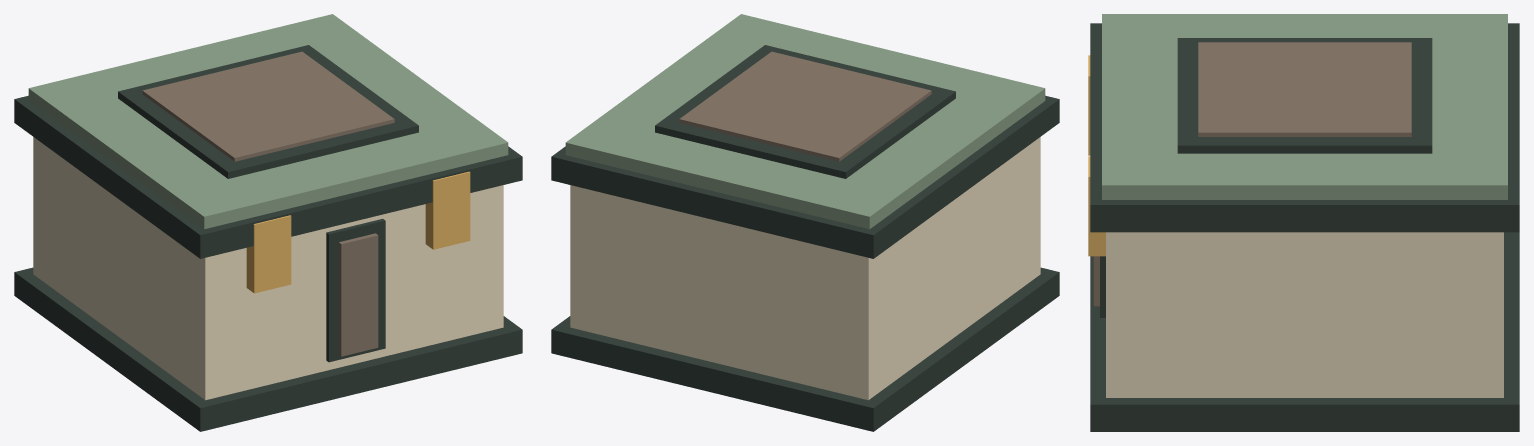
File: quality-cold.glb
3 views of the same model, side by side, from view 1: azimuth 30°, elevation 25°; view 2: azimuth 150°, elevation 25°; view 3: azimuth 270°, elevation 25° (orthographic). The views are drawn at different scales.
Parts seen in each view (by area): view 1: Insulated case, Mesh_CargoContainer_ink, Sealed case lid, ThermalSurface, Mesh_CargoContainer_brass, Quantity fill; view 2: Insulated case, Mesh_CargoContainer_ink, Sealed case lid, ThermalSurface; view 3: Insulated case, Mesh_CargoContainer_ink, Sealed case lid, ThermalSurface, Mesh_CargoContainer_brass.
Part boxes in pixels (x1=…): Insulated case: x1=33, y1=137, x2=503, y2=400; Mesh_CargoContainer_ink: x1=14, y1=45, x2=522, y2=431; Sealed case lid: x1=28, y1=14, x2=508, y2=229; ThermalSurface: x1=142, y1=51, x2=394, y2=161; Mesh_CargoContainer_brass: x1=246, y1=171, x2=470, y2=293; Quantity fill: x1=338, y1=233, x2=378, y2=356; Insulated case: x1=570, y1=137, x2=1040, y2=400; Mesh_CargoContainer_ink: x1=551, y1=45, x2=1059, y2=431; Sealed case lid: x1=565, y1=14, x2=1045, y2=229; ThermalSurface: x1=679, y1=51, x2=931, y2=161; Insulated case: x1=1106, y1=232, x2=1503, y2=397; Mesh_CargoContainer_ink: x1=1090, y1=23, x2=1519, y2=431; Sealed case lid: x1=1102, y1=14, x2=1507, y2=199; ThermalSurface: x1=1198, y1=42, x2=1411, y2=136; Mesh_CargoContainer_brass: x1=1088, y1=55, x2=1105, y2=256.
Bounding box in the file's own units: 0.54 × 0.358 × 0.5425.
